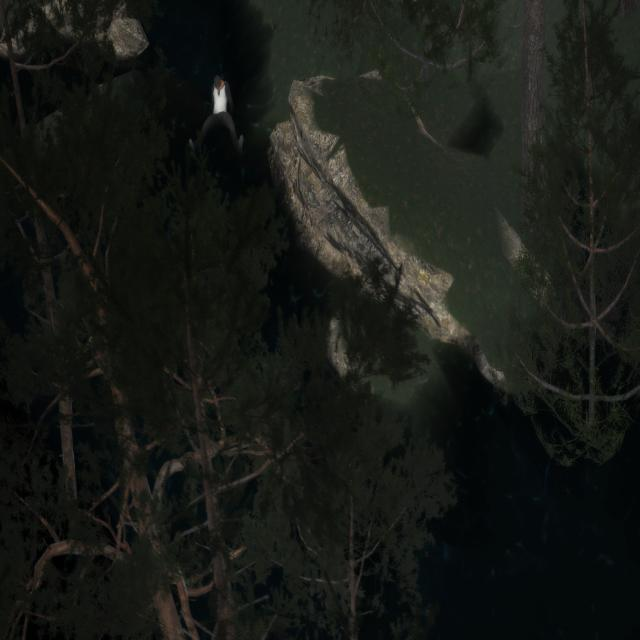Human: (189, 69, 247, 160)
